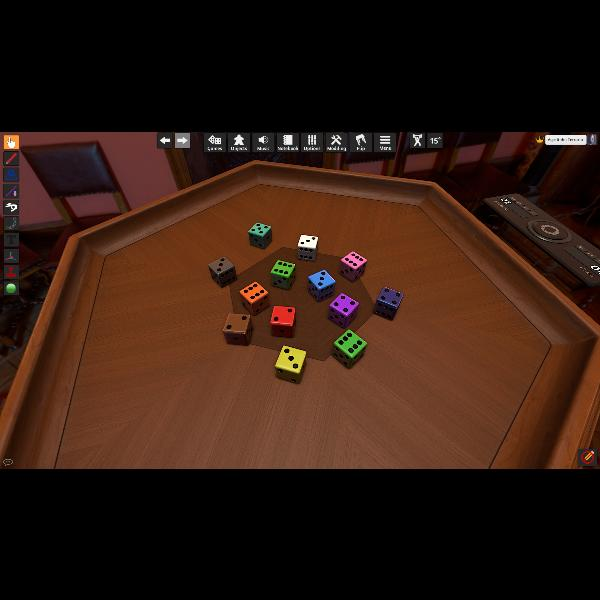d6: (333, 330, 367, 368), (275, 345, 307, 383), (328, 292, 360, 328), (238, 280, 270, 315), (223, 312, 253, 346), (373, 286, 401, 320), (208, 256, 236, 288), (339, 251, 367, 282), (307, 268, 333, 301), (270, 305, 296, 337), (270, 258, 296, 290), (248, 221, 272, 249), (296, 234, 318, 260)
